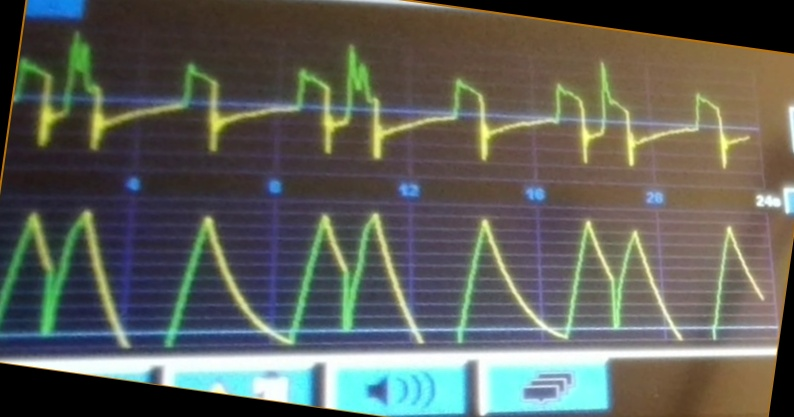Double_Triggering Flow: (19, 32, 640, 169)
Double_Triggering Volume: (1, 207, 680, 347)
